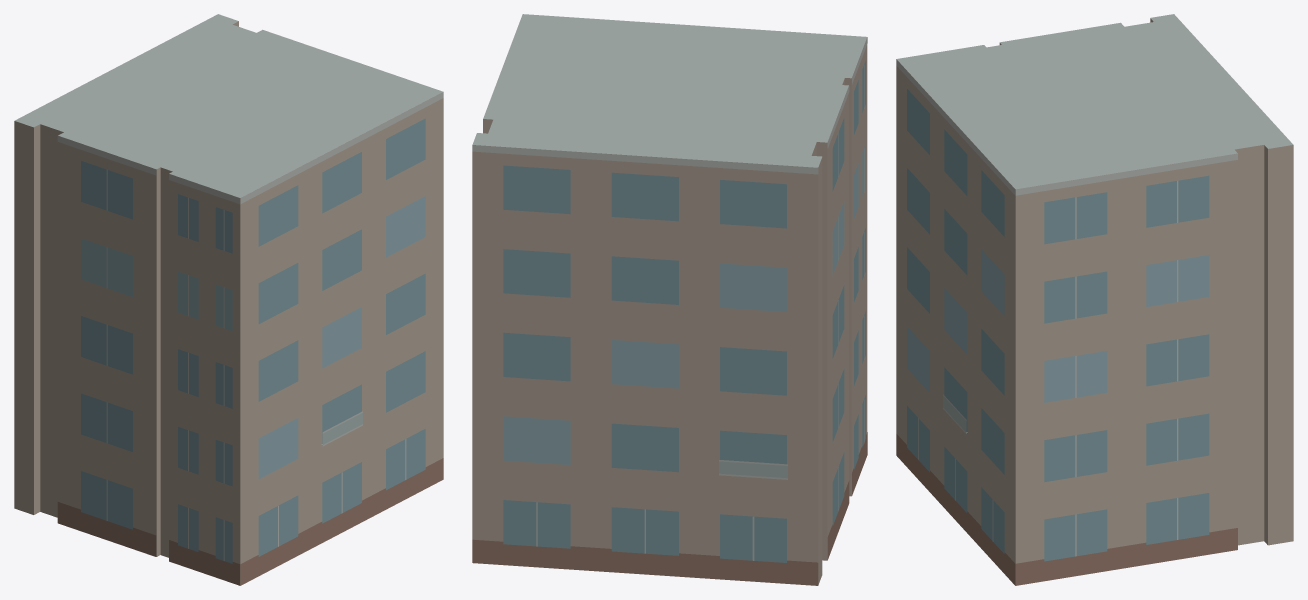
The model's file is survey-upis-32944769.glb.
The picture shows the model from 3 angles, left to right: view 1: azimuth 30°, elevation 25°; view 2: azimuth 150°, elevation 25°; view 3: azimuth 270°, elevation 25°; orthographic projection. The views are drawn at different scales.
Parts seen in each view (by area): view 1: survey-upis-32944769.tmp; view 2: survey-upis-32944769.tmp; view 3: survey-upis-32944769.tmp.
Part boxes in pixels (x1,y1,x2,y2): survey-upis-32944769.tmp: (14, 14, 443, 585); survey-upis-32944769.tmp: (472, 14, 867, 585); survey-upis-32944769.tmp: (896, 14, 1293, 585).
Bounding box in the file's own units: 14.48 × 15.25 × 13.86.
